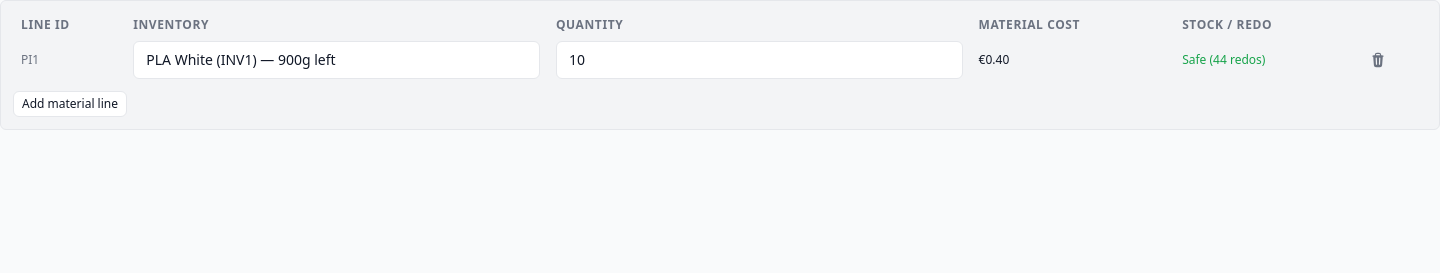
Test: PieceItemsTable › appends a line from an inline draft row with the picker focused
Click the button with test id "add-line-P1" at (70,104), box [13,91,127,117]
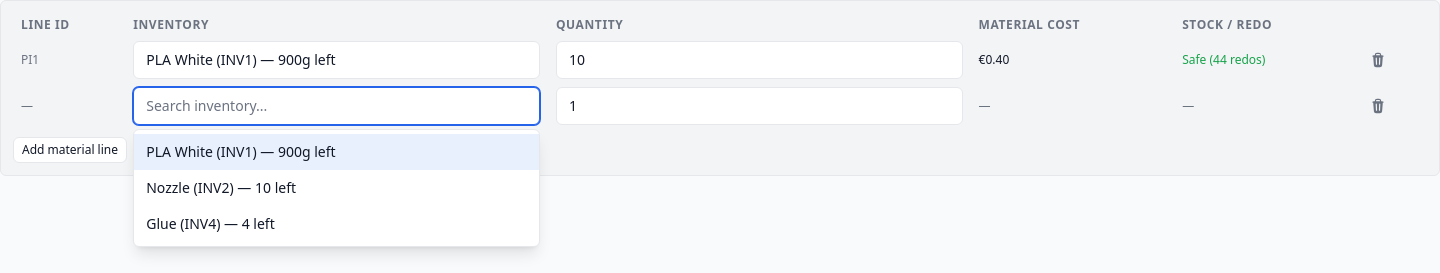
Click the option "Nozzle (INV2) — 10 left" at (221,188), box [146,178,296,197]
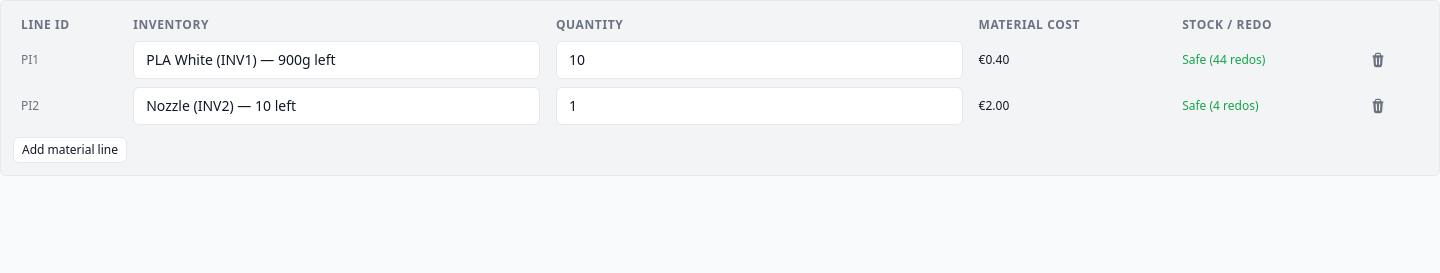
expect the row with test id "piece-item-draft-P1" is gone: met
